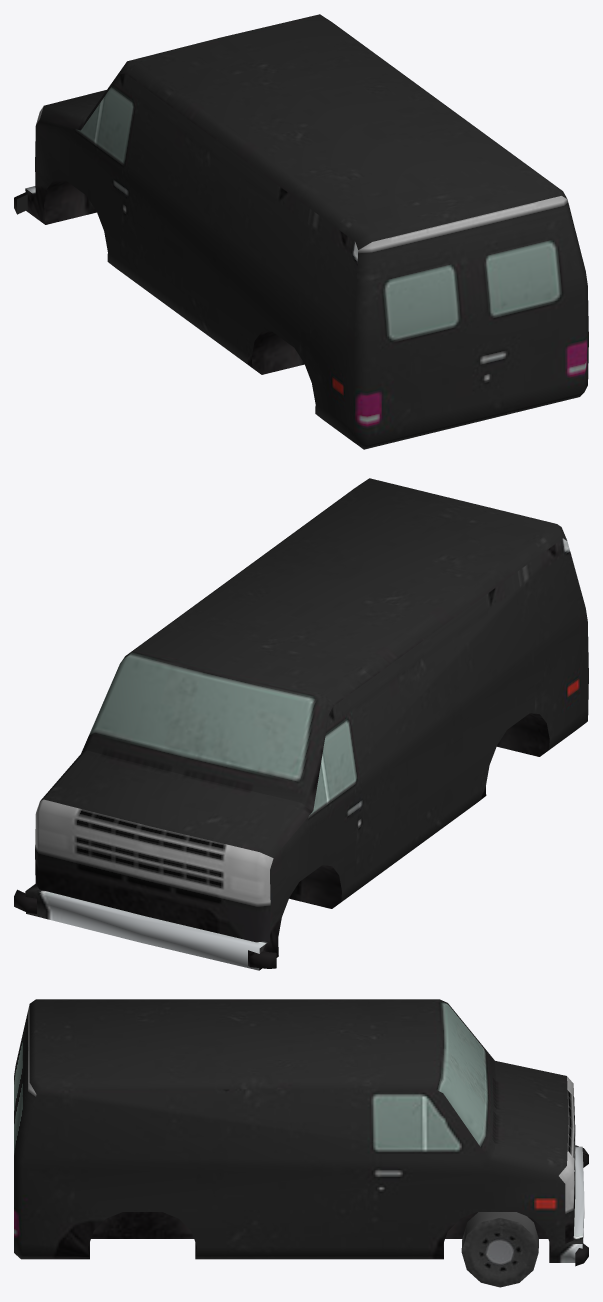
File: car_4.fbx
3 renders of one model, top to bottom at view 1: azimuth 30°, elevation 25°; view 2: azimuth 150°, elevation 25°; view 3: azimuth 270°, elevation 25°, orthographic. The views are drawn at different scales.
Visible parts, largest first — view 1: Object_24.002; view 2: Object_24.002; view 3: Object_24.002, Object_18.033.
Part boxes in pixels (<box>): Object_24.002: <box>14,14,588,449</box>; Object_24.002: <box>14,478,588,970</box>; Object_24.002: <box>14,999,588,1266</box>; Object_18.033: <box>461,1212,538,1287</box>.
Size of the model in its own units: 22.89 by 19.92 by 51.5.
